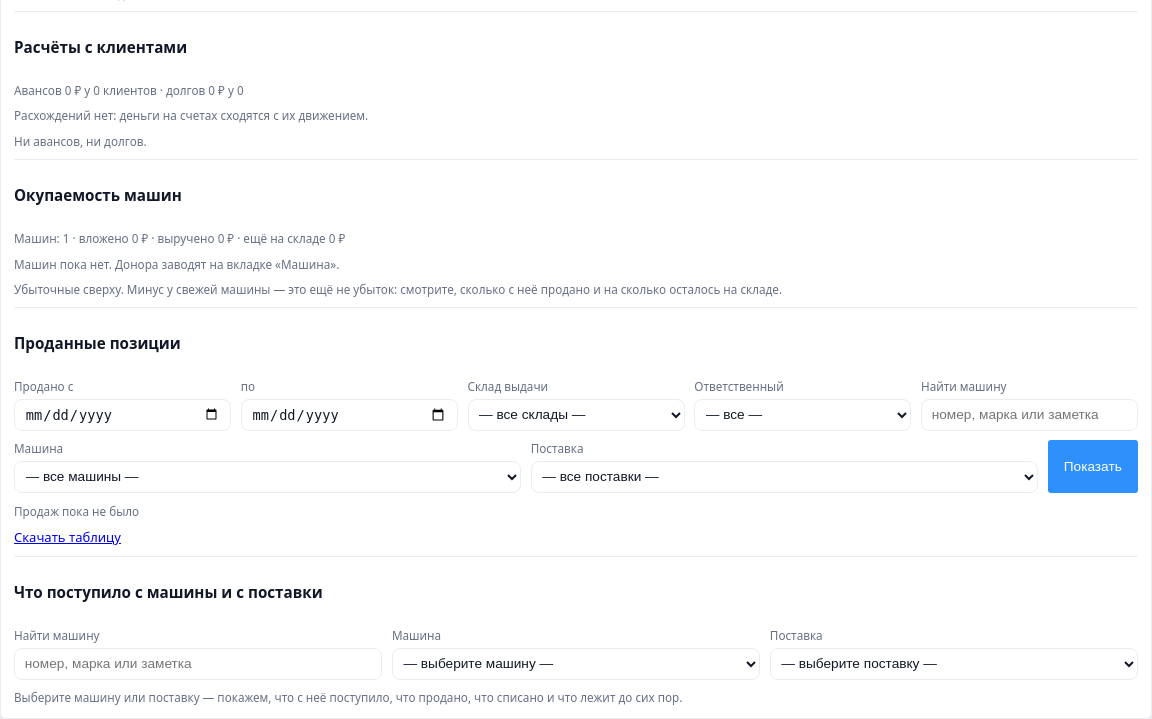
графики окупаемости на экране отчётов › машина без продаж рисует график, а не «данных нет»
(page scrolled)
Select "418 · Toyota Camry 2007" in the 2nd dropdown labelled "Машина" at (576, 664), box [392,648,760,680]
(page scrolled)
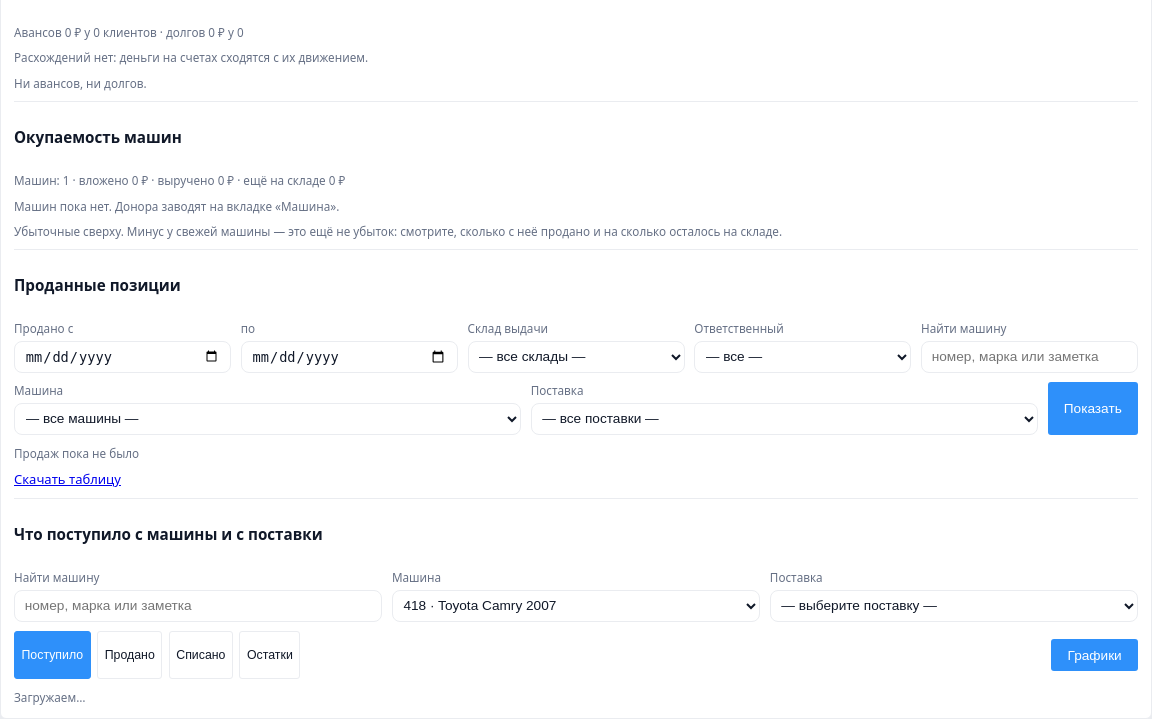
Click the button "Графики".
click(1095, 655)  # box [1051,639,1138,671]
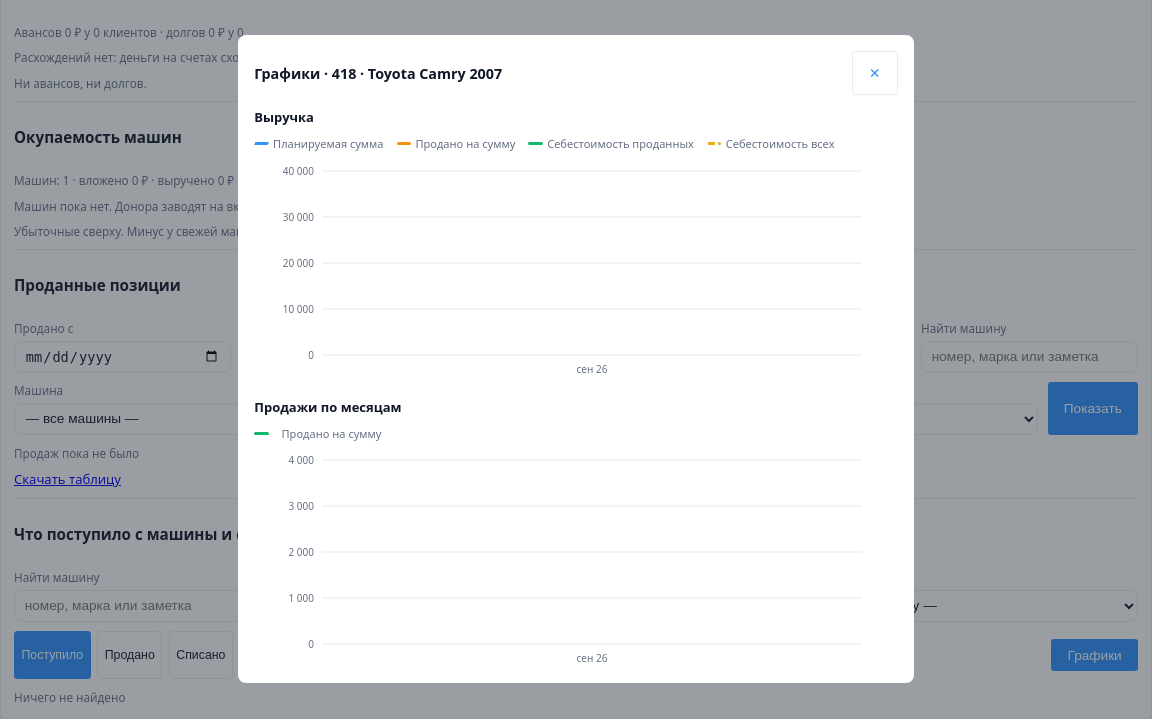
Expected: the heading "Выручка" is shown, [254,108,314,126]
